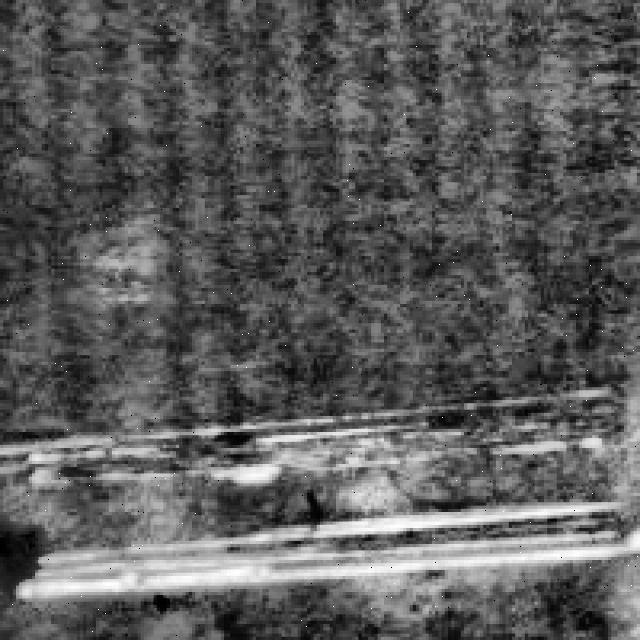Inclusion: (29, 492, 640, 598), (36, 406, 407, 479)
